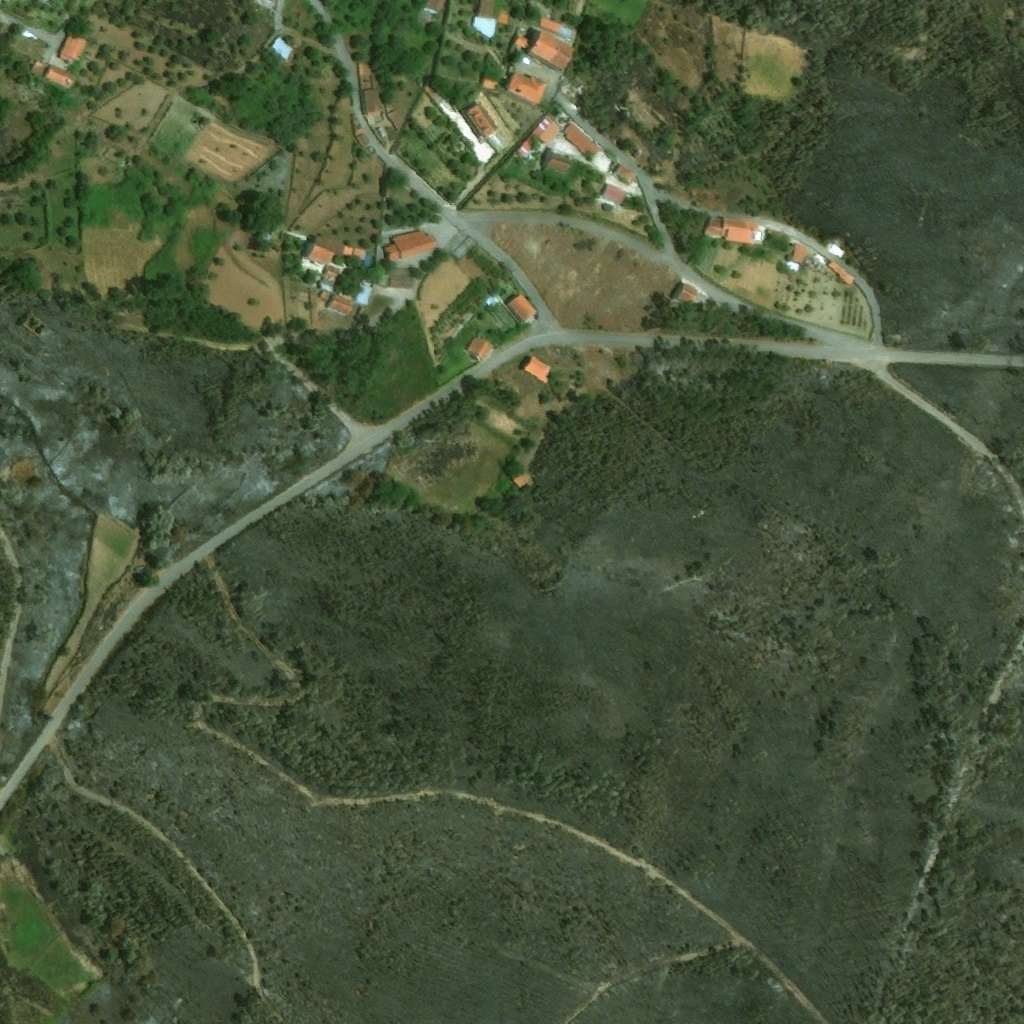0 no-damage: (528, 30, 576, 72), (385, 228, 442, 263), (703, 214, 762, 245), (464, 100, 501, 141), (505, 70, 548, 105), (31, 58, 78, 89), (564, 122, 599, 159), (57, 29, 90, 64), (506, 291, 538, 325), (538, 14, 578, 40), (319, 289, 354, 318), (307, 235, 338, 264), (472, 0, 496, 37), (521, 355, 552, 383), (826, 257, 855, 286), (531, 114, 559, 144), (466, 333, 494, 363), (545, 149, 572, 175), (270, 34, 295, 61), (390, 267, 416, 287), (361, 89, 380, 115), (509, 468, 530, 490), (485, 132, 507, 153), (603, 183, 626, 203), (386, 109, 405, 132), (614, 162, 636, 181), (790, 242, 808, 264), (516, 138, 535, 157), (480, 73, 501, 90), (356, 284, 373, 305), (323, 264, 341, 282), (358, 63, 370, 88), (682, 284, 699, 301), (356, 131, 371, 148), (513, 35, 528, 49), (352, 246, 367, 260), (255, 230, 269, 243), (767, 228, 784, 238), (497, 11, 508, 25), (343, 244, 354, 257), (353, 127, 364, 137), (551, 10, 558, 21)
4 un-classified: (424, 0, 450, 15), (828, 242, 844, 259), (254, 0, 278, 8), (430, 77, 445, 89), (621, 109, 631, 118), (790, 262, 796, 269)
